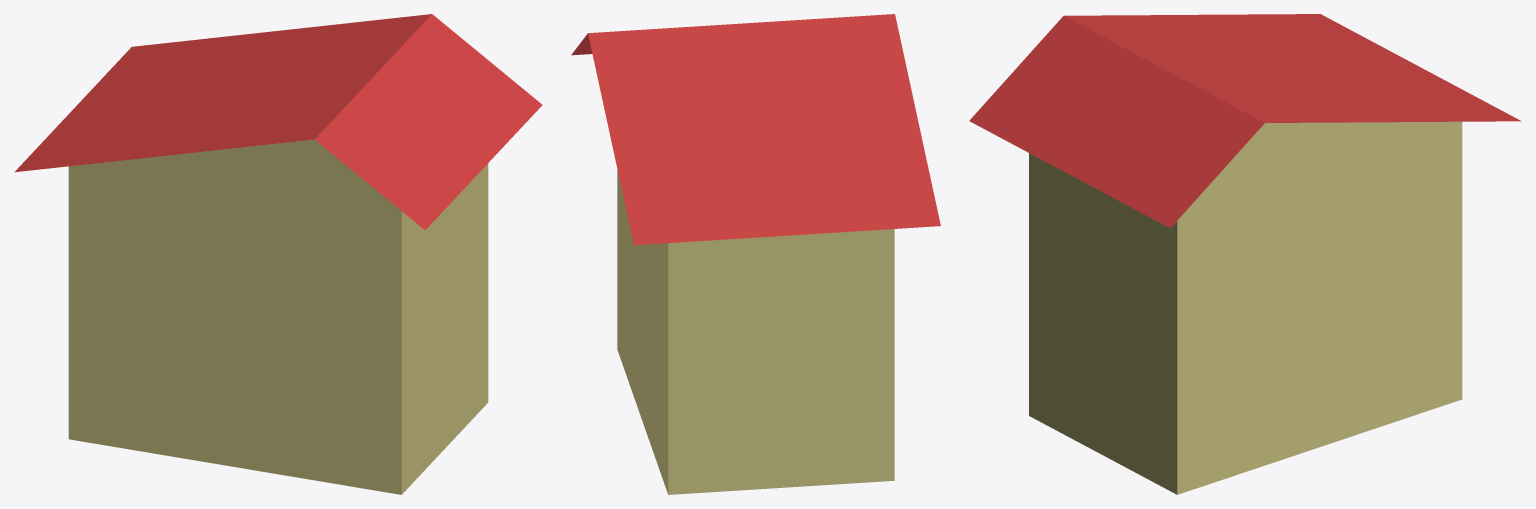
3 renders of one model, left to right at view 1: azimuth 30°, elevation 25°; view 2: azimuth 150°, elevation 25°; view 3: azimuth 270°, elevation 25°, orthographic. The views are drawn at different scales.
Size of the model in its own units: 9.39 by 9.74 by 7.11.
